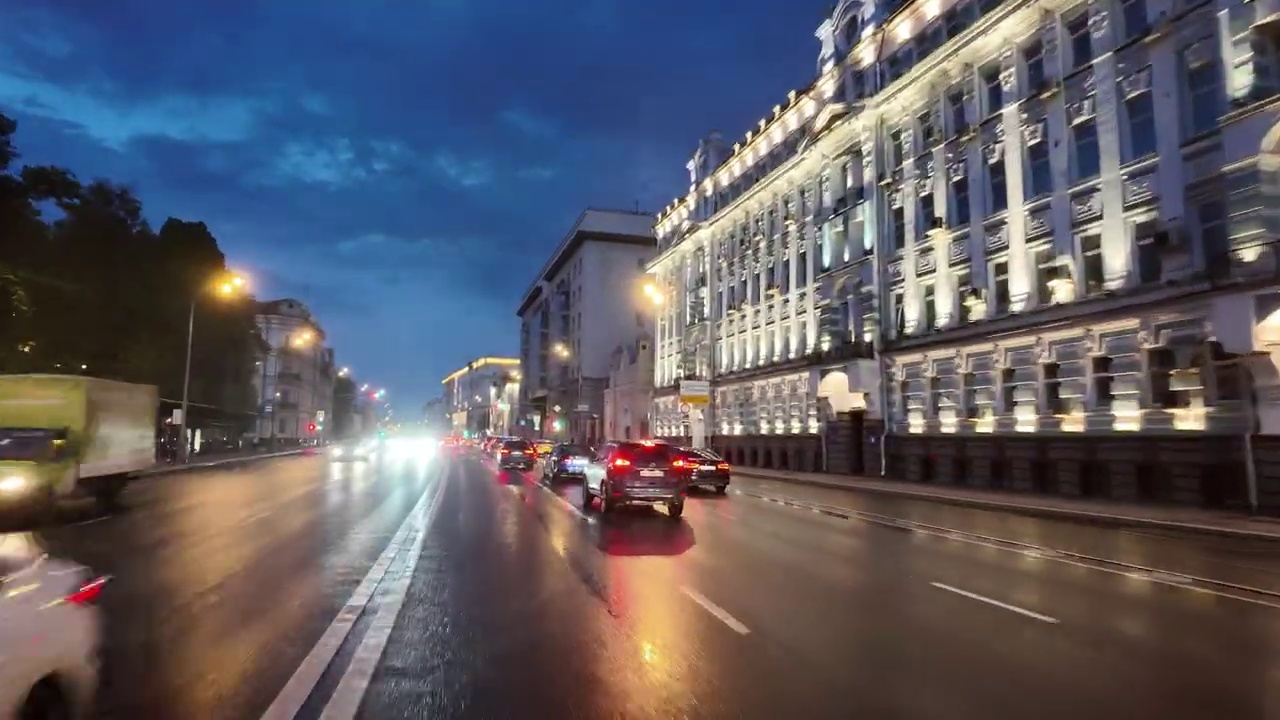acesa: (206, 270, 249, 306), (638, 278, 672, 315), (287, 327, 317, 353), (548, 340, 575, 364)
